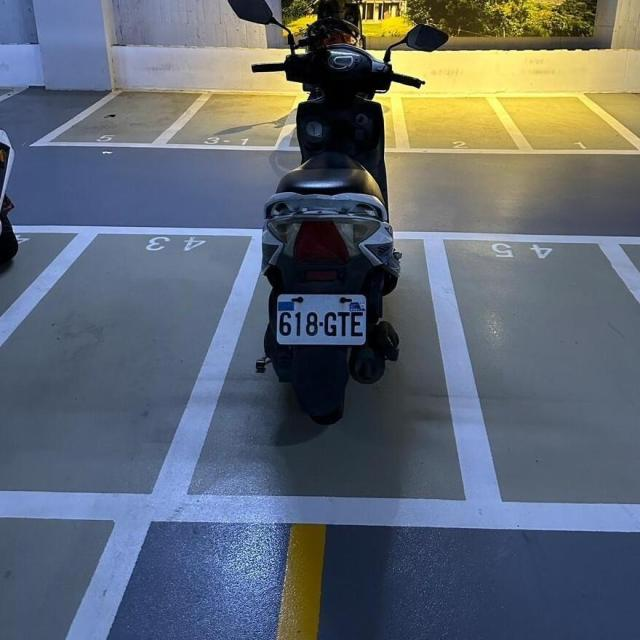W: (276, 292, 367, 344)
